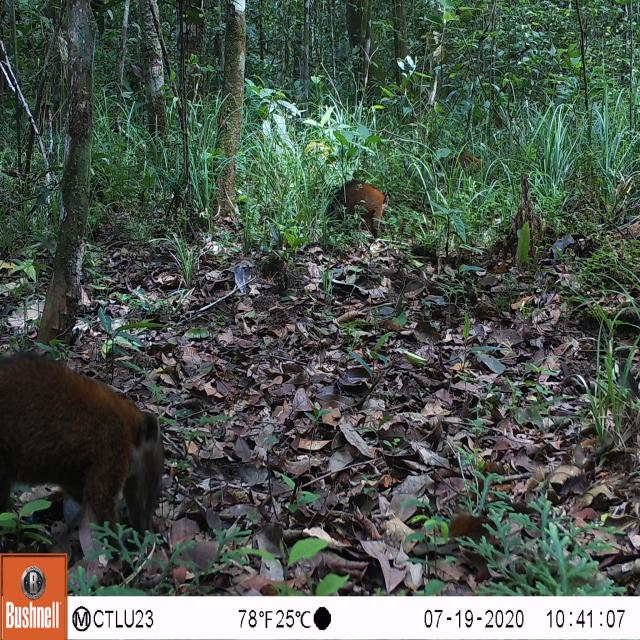South American Coati: (0, 337, 175, 570), (299, 164, 398, 249), (423, 134, 499, 187)
